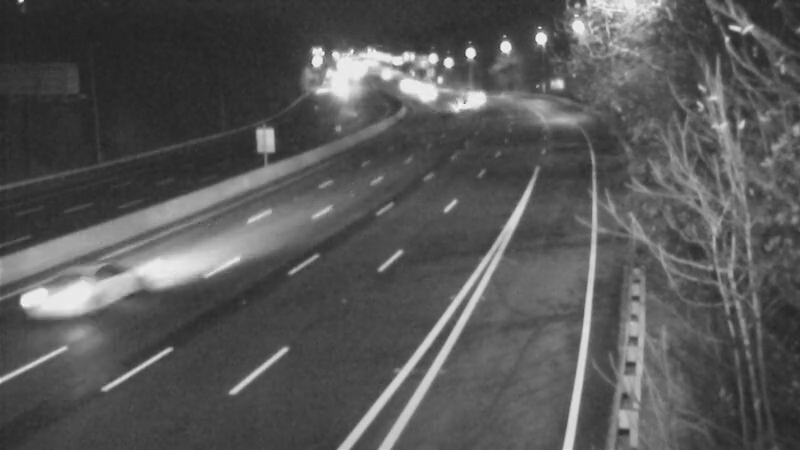vehicle: (25, 242, 105, 322), (452, 72, 502, 122), (430, 77, 480, 127)
